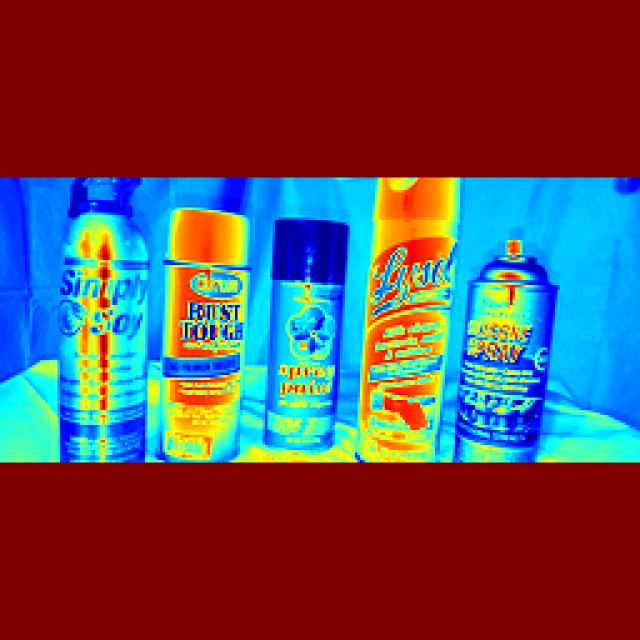Aerosol Cans: (57, 179, 149, 467), (375, 177, 452, 461), (160, 206, 244, 465), (266, 216, 350, 462), (478, 242, 547, 462)
